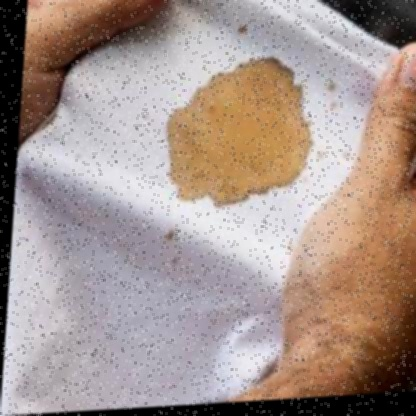coffee: (169, 58, 309, 202)
